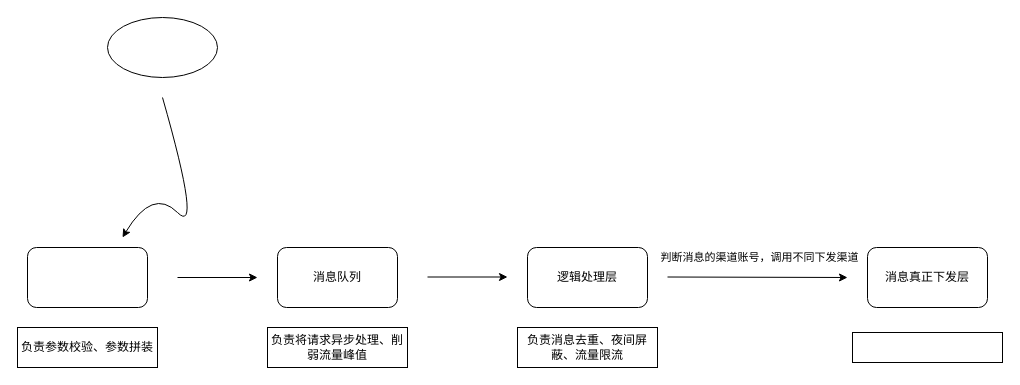
The diagram is 1020 pixels wide and 385 high, and some of its shapes have lost their labels. The centre of each missing label's shape, as x and y in pixels:
实现了不同渠道的消息推送: the point at 927,347
接入层: the point at 87,277
收到消息推送请求: the point at 162,47
